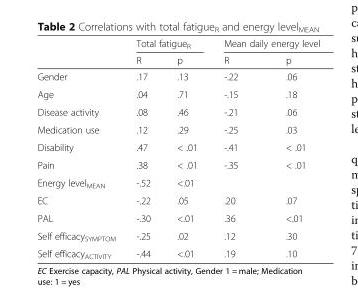table: (36, 37, 319, 259)
table column: (36, 37, 125, 259), (261, 37, 319, 259), (209, 37, 261, 259), (163, 37, 209, 259), (125, 37, 163, 259)
table column header: (36, 37, 319, 67)
table row: (36, 67, 319, 85), (36, 102, 319, 120), (36, 120, 319, 138), (36, 155, 319, 173), (36, 173, 319, 191), (36, 208, 319, 226), (36, 226, 319, 244), (36, 85, 319, 102), (36, 138, 319, 155), (36, 191, 319, 208), (36, 51, 319, 67), (36, 244, 319, 259), (36, 37, 319, 51)
table spanning cell: (209, 37, 319, 51), (125, 37, 209, 51)
